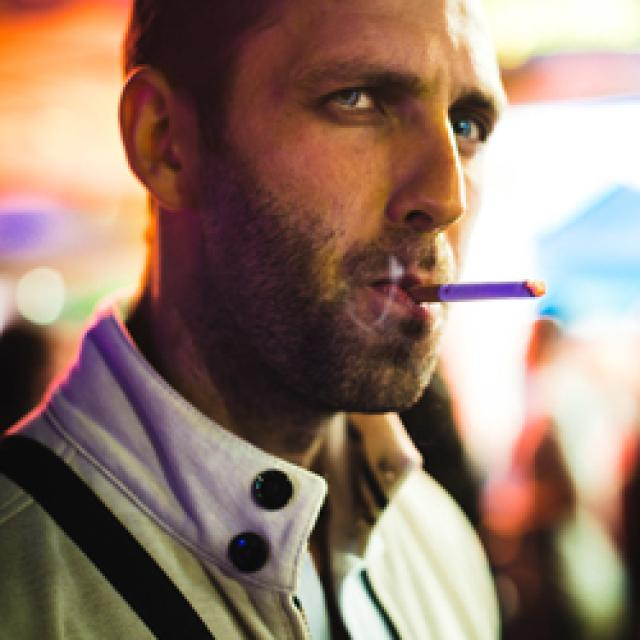Smooking: (417, 262, 560, 309)
